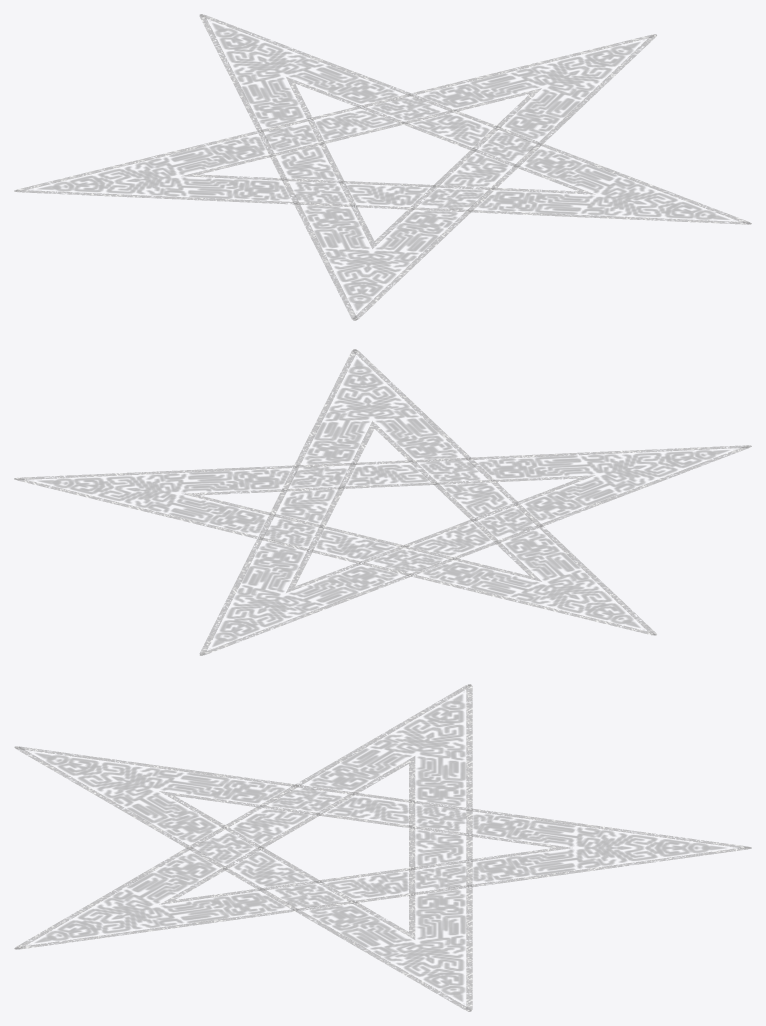
File: si_hex_1101.glb
3 views of the same model, one above another, from view 1: azimuth 30°, elevation 25°; view 2: azimuth 150°, elevation 25°; view 3: azimuth 270°, elevation 25° (orthographic). The views are drawn at different scales.
Parts seen in each view (by area): view 1: layer_01_si_hex_1100, layer_00_si_eos_1003; view 2: layer_01_si_hex_1100, layer_00_si_eos_1003; view 3: layer_01_si_hex_1100, layer_00_si_eos_1003.
Boxes of the visible parts, x1,y1,x2,y2 form: layer_01_si_hex_1100: (39, 23, 728, 310); layer_00_si_eos_1003: (14, 14, 751, 320); layer_01_si_hex_1100: (39, 359, 728, 646); layer_00_si_eos_1003: (14, 349, 751, 655); layer_01_si_hex_1100: (36, 695, 724, 1000); layer_00_si_eos_1003: (14, 684, 751, 1011).
Bounding box in the file's own units: 24727 × 0.00178 × 23536.
2 materials, 2 textured.
